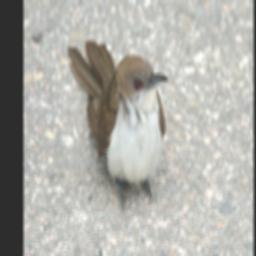Cuckoo: (67, 39, 169, 213)
